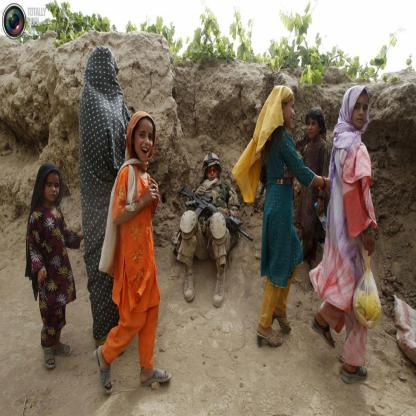face: (135, 119, 154, 163), (352, 93, 369, 129), (45, 173, 61, 203), (284, 96, 296, 129), (307, 116, 319, 139), (207, 164, 219, 183)
